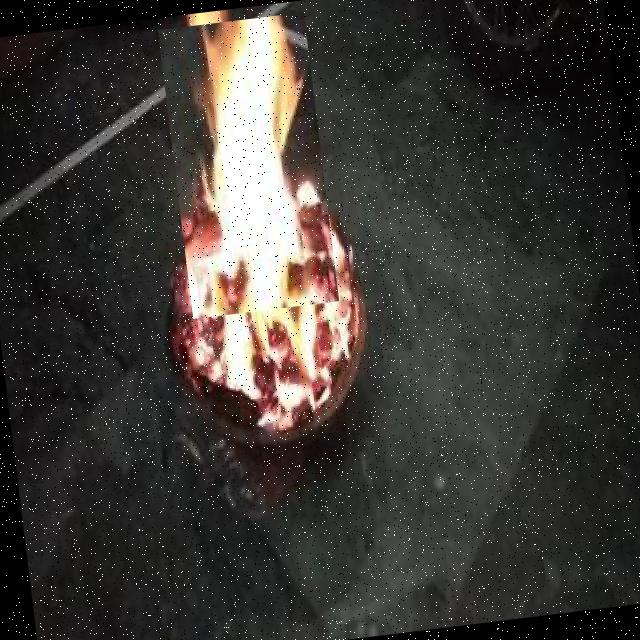fire: (158, 12, 338, 318)
